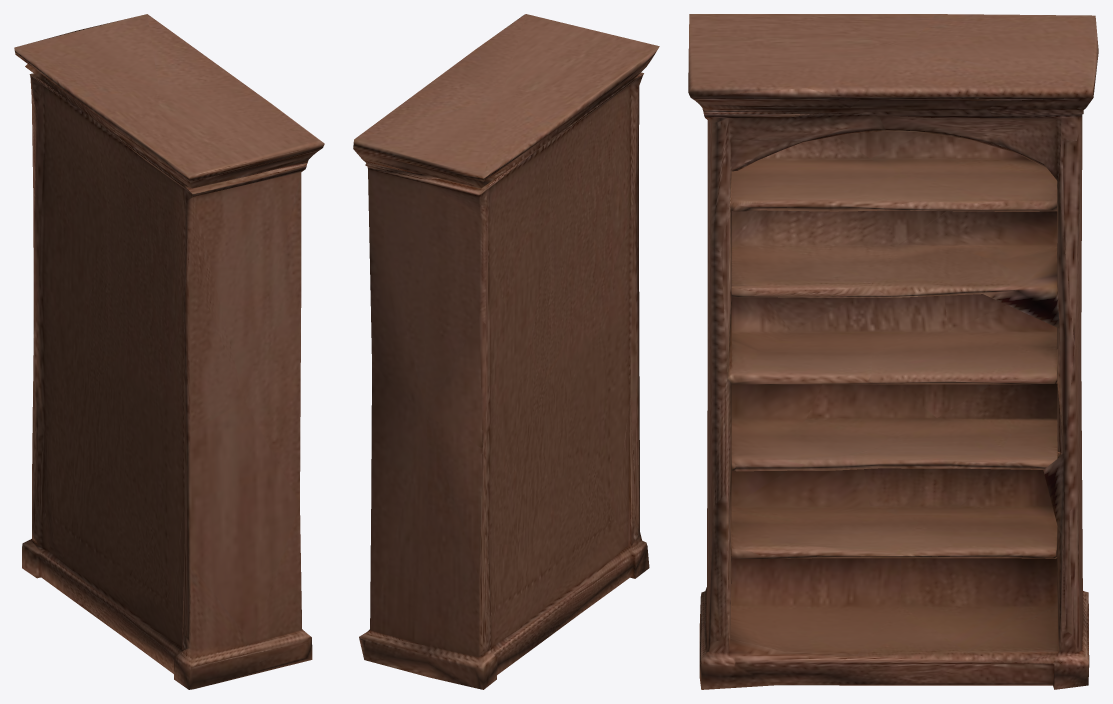
Rendered from bookshelf.glb.
3 renders of one model, left to right at view 1: azimuth 30°, elevation 25°; view 2: azimuth 150°, elevation 25°; view 3: azimuth 270°, elevation 25°, orthographic. The views are drawn at different scales.
Parts seen in each view (by area): view 1: tripo_node_00fb1f41-34b7-4137-b873-91356ee18de1; view 2: tripo_node_00fb1f41-34b7-4137-b873-91356ee18de1; view 3: tripo_node_00fb1f41-34b7-4137-b873-91356ee18de1.
Part boxes in pixels (<box>): tripo_node_00fb1f41-34b7-4137-b873-91356ee18de1: <box>14,14,324,689</box>; tripo_node_00fb1f41-34b7-4137-b873-91356ee18de1: <box>353,14,659,689</box>; tripo_node_00fb1f41-34b7-4137-b873-91356ee18de1: <box>688,14,1098,689</box>.
Bounding box in the file's own units: 0.2703 × 0.9774 × 0.6012.
Materials: 1 (1 with a texture image).
